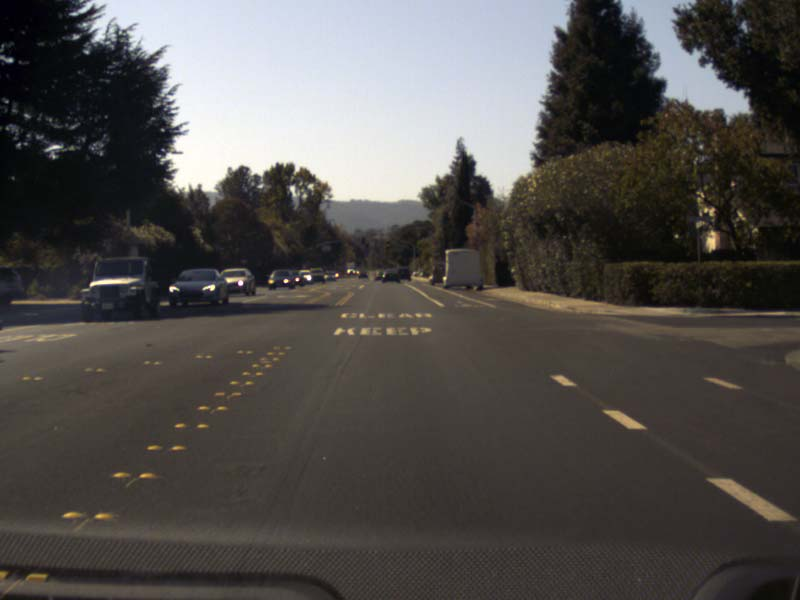Yellow: (386, 240, 389, 249)
